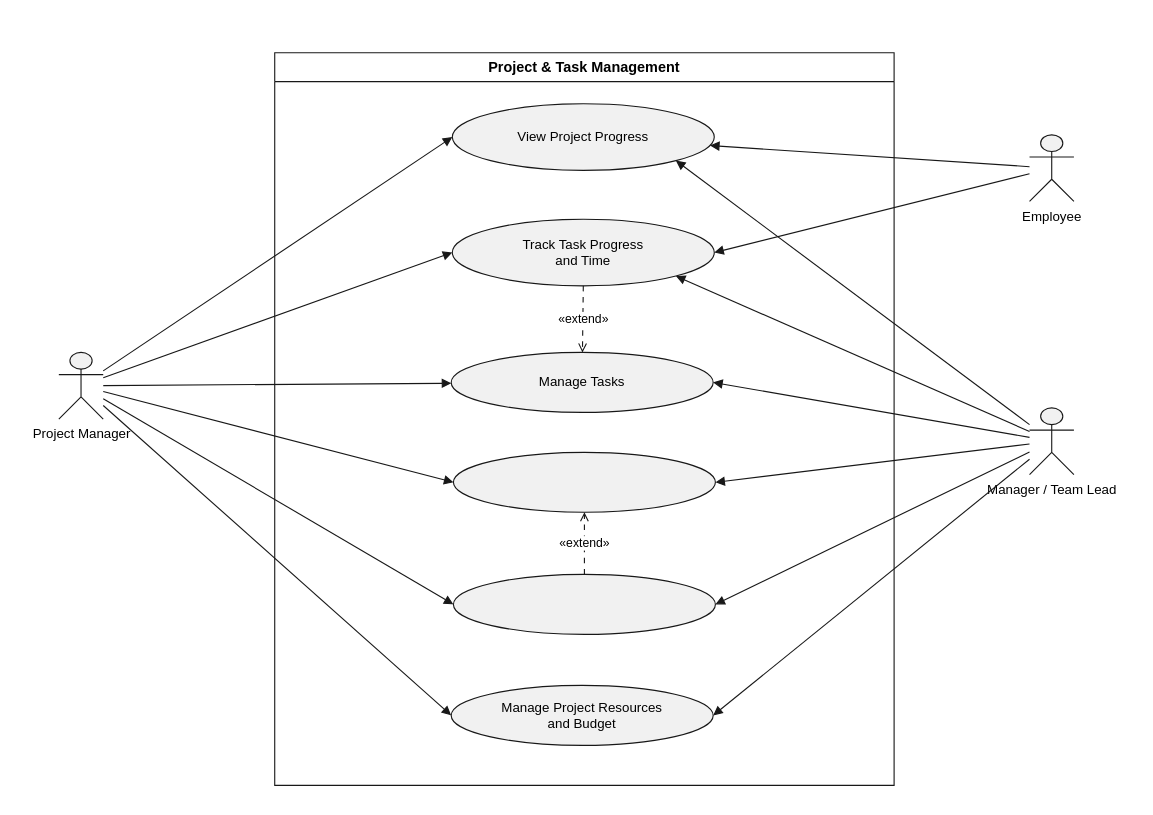
This 1153x815 diagram has some shape labels left out. The centre of each missing label's shape, as x and y in pixels:
"Manage Project Members" belongs at pixel 583 603.
"Manage Projects" belongs at pixel 583 481.
